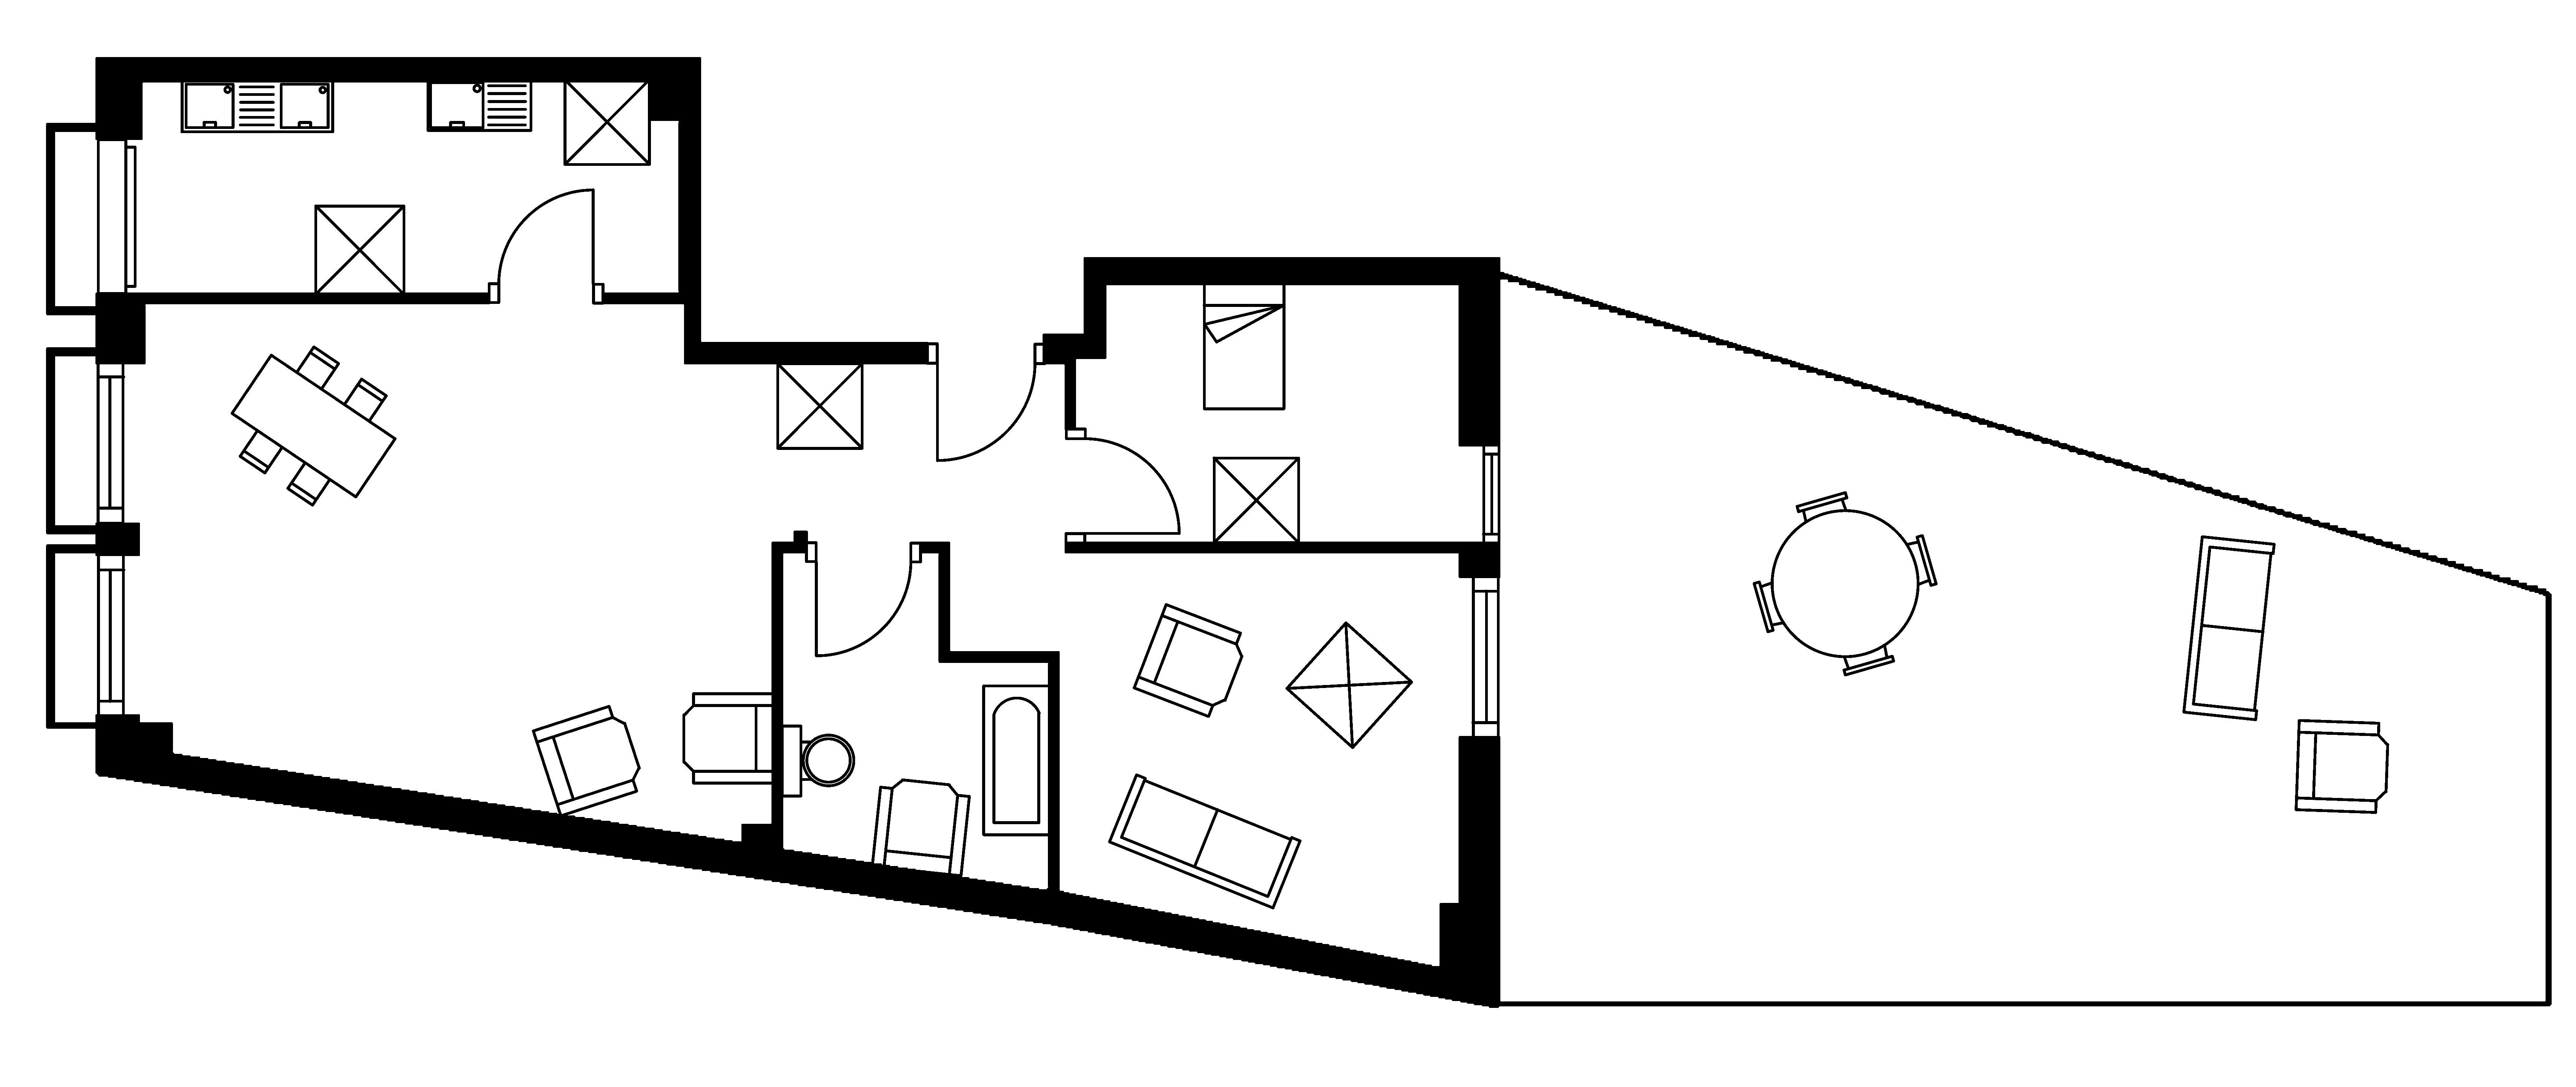armchair: (1132, 602, 1244, 719), (531, 704, 641, 817), (871, 778, 971, 878), (2293, 719, 2389, 814), (682, 691, 774, 784)
bed: (1203, 281, 1286, 411)
coffee_table: (1285, 620, 1413, 750), (314, 204, 406, 296), (562, 77, 651, 166), (775, 362, 864, 451), (1212, 456, 1301, 544)
dining_table: (230, 345, 396, 506)
large_sink: (780, 724, 854, 798)
large_sofa: (1107, 773, 1301, 909), (2182, 534, 2275, 722)
round_table: (1751, 490, 1937, 676)
sink: (425, 77, 532, 132)
tub: (981, 684, 1051, 837)
twin_sink: (179, 77, 333, 133)
